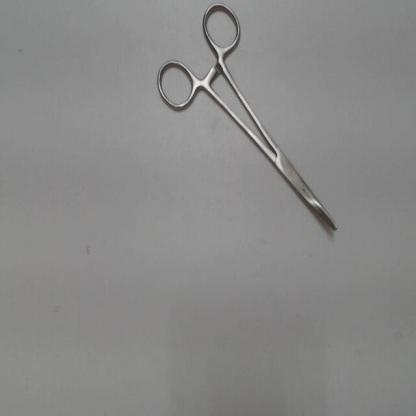Crile Artery Forceps: (154, 1, 346, 241)
